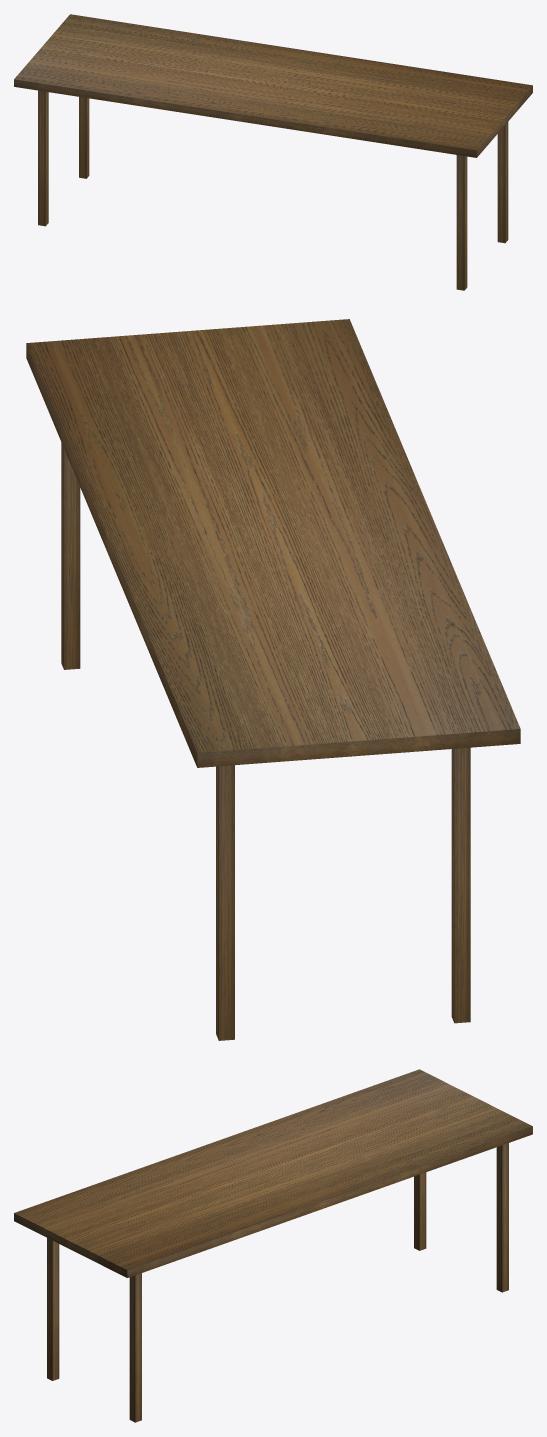
Rendered from Obstacle_038.obj.
3 renders of one model, top to bottom at view 1: azimuth 30°, elevation 25°; view 2: azimuth 150°, elevation 25°; view 3: azimuth 270°, elevation 25°, orthographic. The views are drawn at different scales.
Parts seen in each view (by area): view 1: Box022; view 2: Box022; view 3: Box022.
Part boxes in pixels (x1,y1,x2,y2): Box022: [14, 14, 532, 290]; Box022: [26, 319, 520, 1040]; Box022: [14, 1069, 532, 1422].
Size of the model in its own units: 106 by 40.27 by 116.
